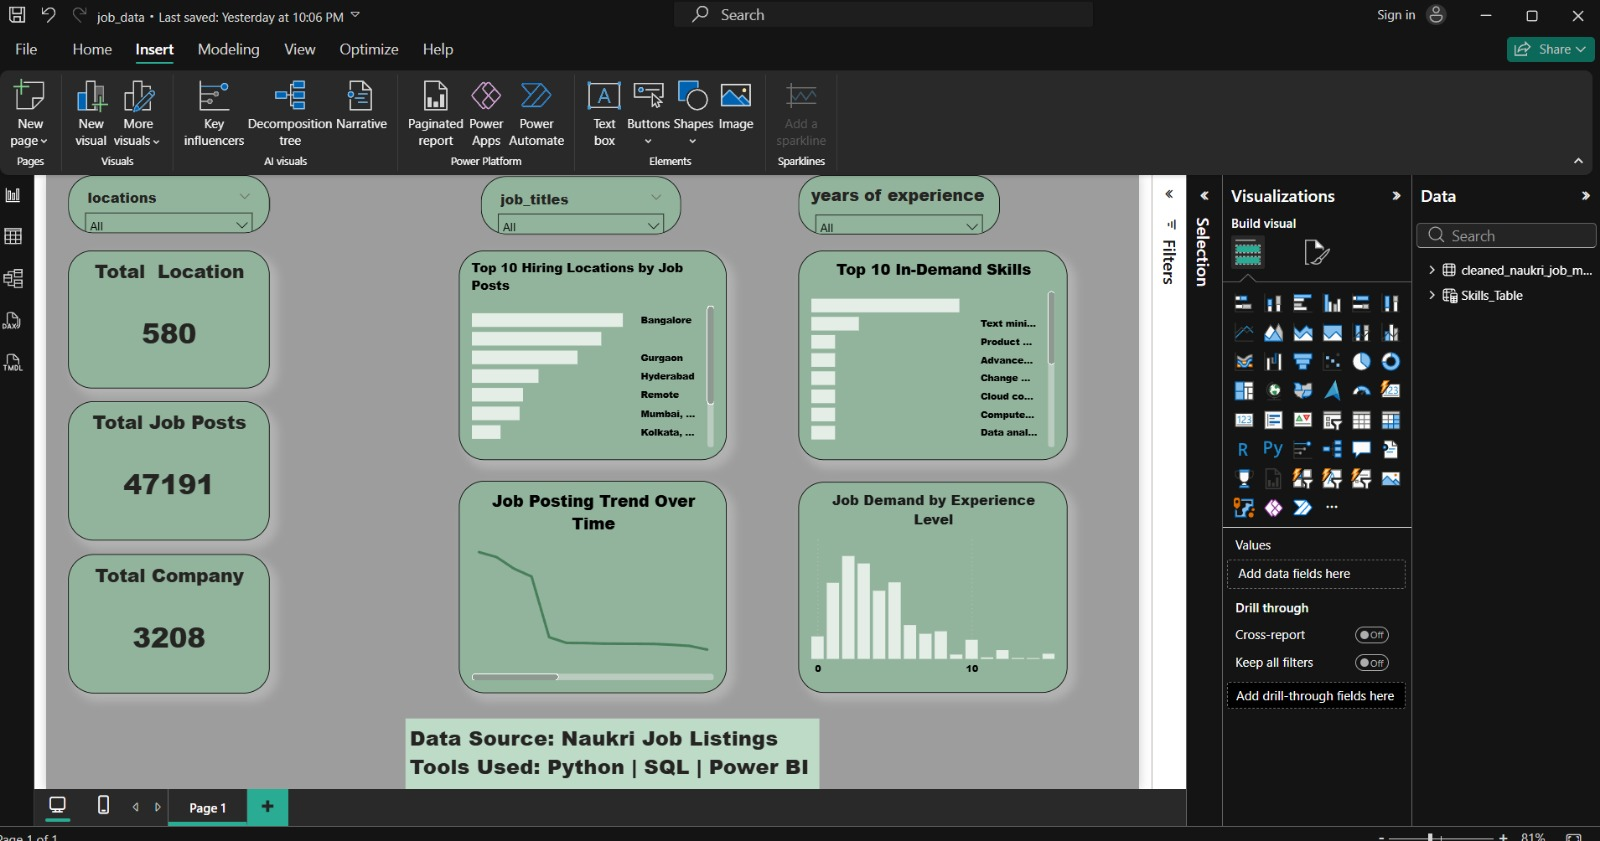

The page's visual inventory and layout, read from the dashboard file:
{"tool":"powerbi","page":{"name":"Page 1","canvas":[1280,720],"ordinal":0},"visuals":[{"type":"card","title":"Total Job Posts","fields":{"Values":["Skills_Table.Total Job Posts (All)"]},"box":[26,264.6,235.7,163.4],"z":0},{"type":"card","title":"Total  Location","fields":{"Values":["Skills_Table.Total Locations (All)"]},"box":[26,88.2,235.7,162],"z":1000},{"type":"card","title":"Total Company","fields":{"Values":["Skills_Table.Total Companies (All)"]},"box":[26,443.9,235.7,163.4],"z":2000},{"type":"barChart","title":"Top 10 Hiring Locations by Job Posts","fields":{"Category":["cleaned_naukri_job_market.locations"],"Y":["CountNonNull(cleaned_naukri_job_market.job_titles)"]},"box":[483,88.2,313.8,245.8],"z":3000},{"type":"clusteredBarChart","title":"Top 10 In-Demand Skills","fields":{"Category":["Skills_Table.Skill"],"Y":["Skills_Table.Skill Count"]},"box":[880.6,88.2,315.2,245.8],"z":4000},{"type":"clusteredColumnChart","title":"Job Demand by Experience Level","fields":{"Category":["cleaned_naukri_job_market.experience"],"Y":["Count(cleaned_naukri_job_market.job_titles)"]},"box":[880.6,360.1,315.2,247.3],"z":5000},{"type":"lineChart","title":"Job Posting Trend Over Time","fields":{"Category":["cleaned_naukri_job_market.post_time"],"Y":["CountNonNull(cleaned_naukri_job_market.job_titles)"]},"box":[483,358.6,313.8,248.7],"z":6000},{"type":"slicer","fields":{"Values":["cleaned_naukri_job_market.locations"]},"box":[26,0,235.7,68],"z":7000},{"type":"slicer","fields":{"Values":["cleaned_naukri_job_market.job_titles"]},"box":[509,1.4,234.3,68],"z":8000},{"type":"slicer","title":"years of experience","fields":{"Values":["cleaned_naukri_job_market.experience_required"]},"box":[880.6,0,235.7,69.4],"z":9000},{"type":"textbox","box":[420.9,636.8,484.7,83.4],"z":10000}]}

Visuals, with their boxes on the page's 1280x720 design canvas (x1, y1, x2, y2). These are canvas units, not pixel positions in the 1600x841 screenshot, which may show the page scaled, cropped or inside an application window:
"Total Job Posts" card: bbox(26, 265, 262, 428)
"Total  Location" card: bbox(26, 88, 262, 250)
"Total Company" card: bbox(26, 444, 262, 607)
"Top 10 Hiring Locations by Job Posts" barChart: bbox(483, 88, 797, 334)
"Top 10 In-Demand Skills" clusteredBarChart: bbox(881, 88, 1196, 334)
"Job Demand by Experience Level" clusteredColumnChart: bbox(881, 360, 1196, 607)
"Job Posting Trend Over Time" lineChart: bbox(483, 359, 797, 607)
slicer - cleaned_naukri_job_market.locations: bbox(26, 0, 262, 68)
slicer - cleaned_naukri_job_market.job_titles: bbox(509, 1, 743, 69)
"years of experience" slicer: bbox(881, 0, 1116, 69)
textbox: bbox(421, 637, 906, 720)
